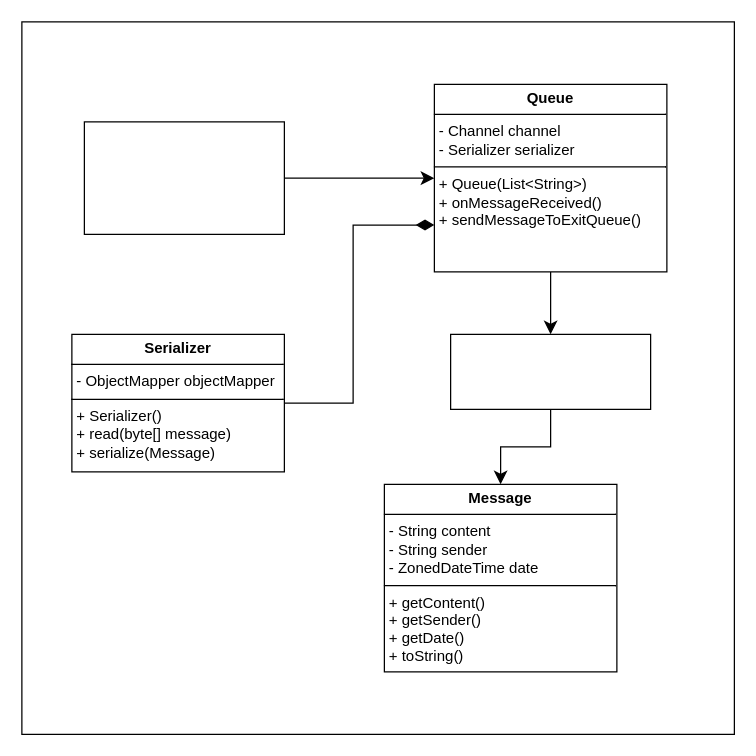
The diagram is 756 pixels wide and 756 high, and some of its shapes have lost their labels. The shapes that lost their labels are listed below. From the top down, each one's centre as x and y in pixels, then its label:
At (183,177): "Main + List<String> Users + main (String[] argv)".
At (550,371): "<< OnMessage >> + onReceived (Message".
